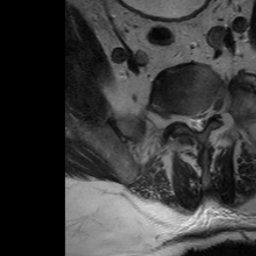CCS_stenosis: (194, 104, 201, 139)
LFS_normal: (206, 93, 214, 126)
LLS_normal: (201, 102, 208, 134)
RFS_normal: (177, 103, 186, 131)
RLS_normal: (186, 104, 194, 136)
